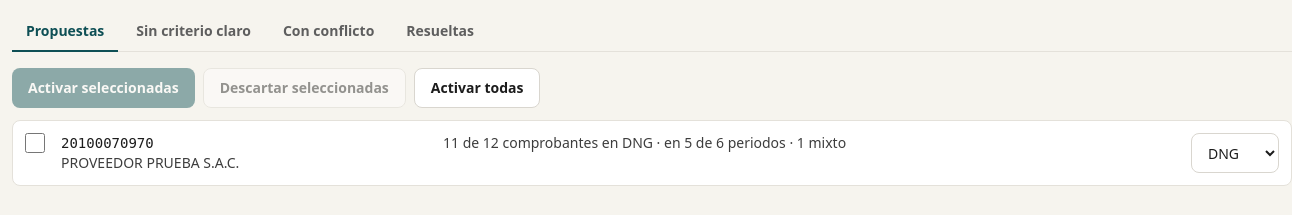
Scenario: <CandidatasImportadas /> · regla desactivada en conflicto (T20, D-6) › ya aprendida con la regla desactivada: avisa que está inactiva y que se reactiva desde la página de reglas
What coordinates should you click on to do the following:
click the tab "Con conflicto"
I would click on:
 (329, 32)
Its box is [269,12,388,52].
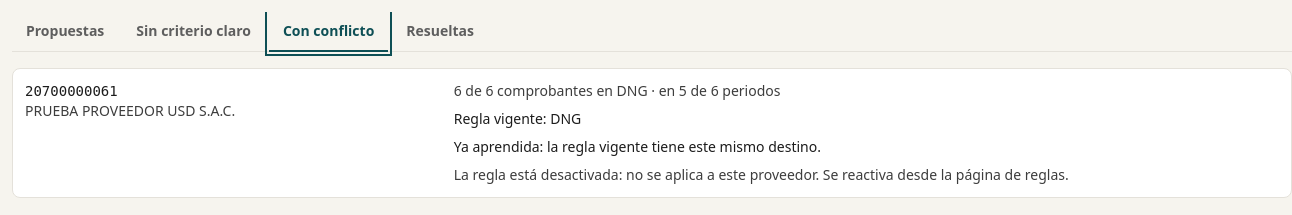
Result: the text "Ya aprendida: la regla vigente tiene este mismo destino." is shown at [454,137,821,156]
Result: the text "La regla está desactivada: no se aplica a este proveedor. Se reactiva desde la página de reglas." is shown at [454,165,1069,184]
